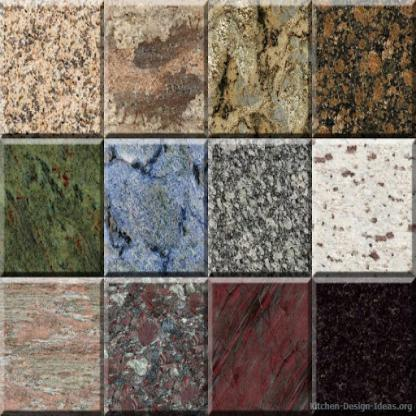Igneous_Granite: (206, 136, 314, 277), (100, 140, 207, 274), (312, 135, 415, 273), (311, 2, 415, 136), (205, 3, 312, 131), (2, 139, 98, 281), (104, 2, 205, 134), (206, 287, 310, 415), (314, 285, 416, 415), (104, 287, 207, 415), (3, 3, 103, 132), (0, 290, 99, 413)
